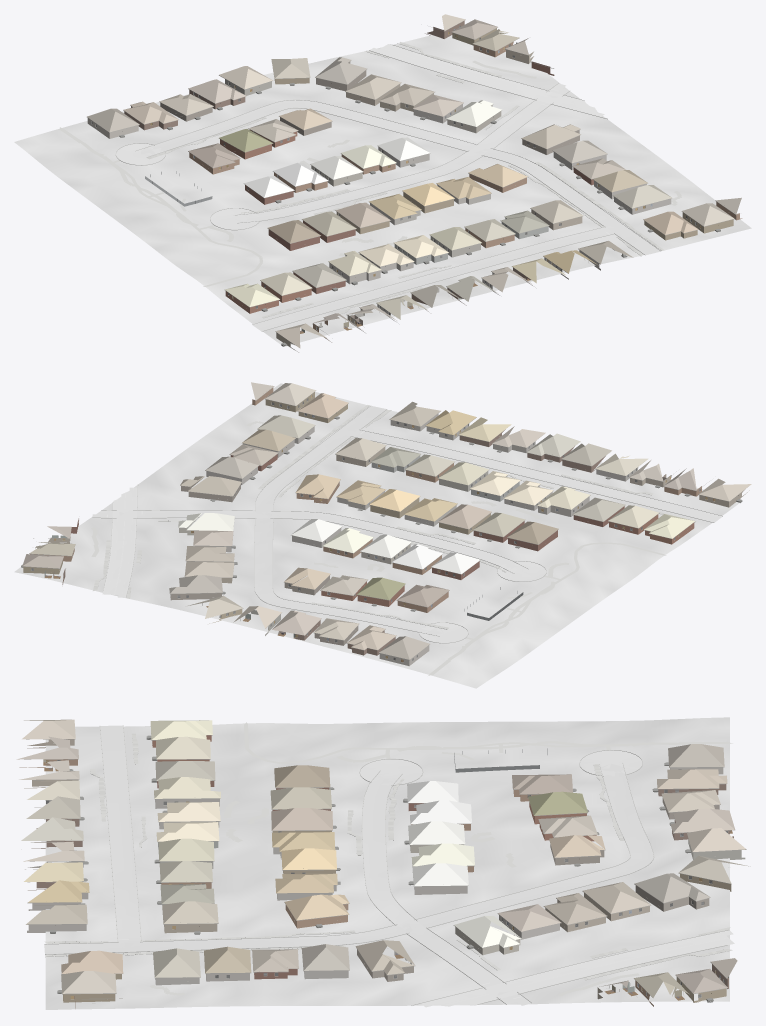
The picture shows the model from 3 angles, top to bottom: view 1: azimuth 30°, elevation 25°; view 2: azimuth 150°, elevation 25°; view 3: azimuth 270°, elevation 25°; orthographic projection. The views are drawn at different scales.
Visible parts, largest first — view 1: ground, roof, concrete, wall, walk, detail, curb, wall_stone, asphalt, wall_stucco; view 2: ground, roof, concrete, wall, walk, detail, curb, wall_stone, asphalt, wall_stucco; view 3: ground, roof, concrete, wall, walk, asphalt, curb, detail, wall_stone, wall_stucco.
Boxes of the visible parts, <box> form: ground: <box>14,35,751,346</box>; roof: <box>87,14,741,348</box>; concrete: <box>116,83,660,331</box>; wall: <box>124,21,742,352</box>; walk: <box>59,42,681,318</box>; detail: <box>87,19,739,346</box>; curb: <box>115,43,661,331</box>; wall_stone: <box>329,104,671,321</box>; asphalt: <box>370,44,604,116</box>; wall_stucco: <box>87,49,548,332</box>; ground: <box>14,383,742,688</box>; roof: <box>22,382,751,659</box>; concrete: <box>92,406,722,642</box>; wall: <box>23,388,749,655</box>; walk: <box>91,405,696,675</box>; detail: <box>21,386,742,662</box>; curb: <box>92,405,722,643</box>; wall_stone: <box>194,413,638,552</box>; asphalt: <box>102,487,137,597</box>; wall_stucco: <box>36,455,670,666</box>; ground: <box>45,717,729,1009</box>; roof: <box>16,719,750,999</box>; concrete: <box>44,725,653,1005</box>; wall: <box>19,735,733,1008</box>; walk: <box>44,722,732,995</box>; asphalt: <box>421,930,734,1007</box>; curb: <box>44,725,729,1005</box>; detail: <box>24,735,746,1003</box>; wall_stone: <box>25,798,559,985</box>; wall_stucco: <box>24,767,745,999</box>.
Size of the model in its own units: 258 by 15.99 by 270.
